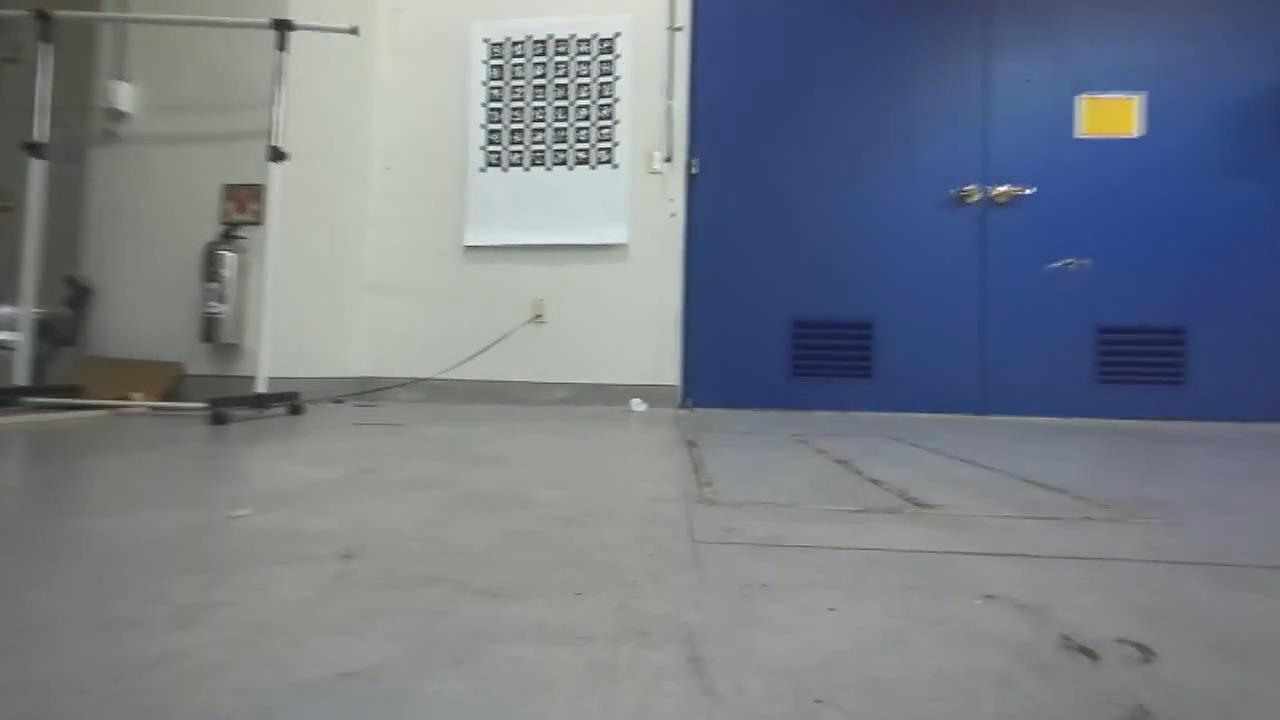crazyflie: (1034, 250, 1098, 277)
